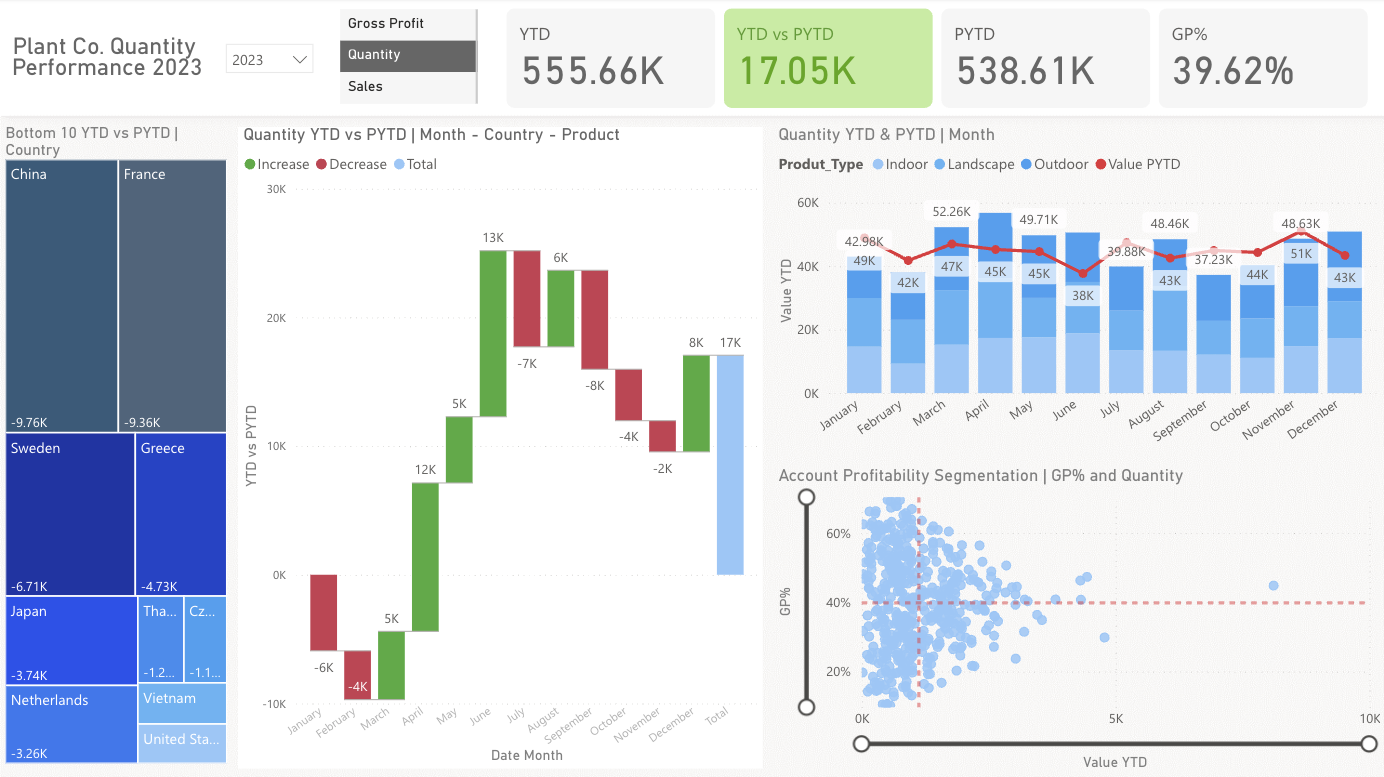

This screenshot's page, from the dashboard's own definition file:
{"tool":"powerbi","page":{"name":"Performance Report","canvas":[1280,720],"ordinal":0},"visuals":[{"type":"cardVisual","fields":{"Data":["_Measures.S_YTD","_Measures.YTD vs PYTD","_Measures.S_PYTD","_Measures.GP%"]},"box":[463,4.2,806.2,102.1],"z":0},{"type":"advancedSlicerVisual","fields":{"Values":["Slc_Values.Values"]},"box":[309.8,5.9,137.3,98],"z":1000},{"type":"slicer","fields":{"Values":["Dim_Date.Date.Variation.Date Hierarchy.Year"]},"box":[198.4,32.7,101.3,50.2],"z":2000},{"type":"treemap","title":"Bottom 10 YTD vs PYTD | Country","fields":{"Values":["_Measures.YTD vs PYTD"],"Group":["Dim_Account.country"]},"box":[0,118.7,214.6,594.4],"z":3000},{"type":"waterfallChart","fields":{"Y":["_Measures.YTD vs PYTD"],"Category":["Dim_Date.Date.Variation.Date Hierarchy.Month","Dim_Account.country","Dim_Product.Produt_Type","Dim_Product.Product_Name"]},"box":[220.3,119.6,485.2,593.5],"z":4000},{"type":"lineStackedColumnComboChart","fields":{"Y":["_Measures.S_YTD"],"Y2":["_Measures.S_PYTD"],"Category":["Dim_Date.Date.Variation.Date Hierarchy.Quarter","Dim_Date.Date.Variation.Date Hierarchy.Month"],"Series":["Dim_Product.Produt_Type"]},"box":[714.1,119.6,565.9,314.3],"z":5000},{"type":"scatterChart","fields":{"Y":["_Measures.GP%"],"X":["_Measures.S_YTD"],"Category":["Dim_Account.Account"]},"box":[714.1,433.9,565.9,285.8],"z":6000},{"type":"card","fields":{"Values":["_Measures._Report title"]},"box":[0,20.9,198.5,68.4],"z":7000}]}

Visuals, with their boxes in screenshot pixels (x1, y1, x2, y2), scaled from the page's 1280x720 canvas onto the 1384x777 screenshot:
cardVisual - _Measures.S_YTD x _Measures.YTD vs PYTD: box=[501, 5, 1372, 115]
advancedSlicerVisual - Slc_Values.Values: box=[335, 6, 483, 112]
slicer - Dim_Date.Date.Variation.Date Hierarchy.Year: box=[215, 35, 324, 89]
"Bottom 10 YTD vs PYTD | Country" treemap: box=[0, 128, 232, 770]
waterfallChart - _Measures.YTD vs PYTD x Dim_Date.Date.Variation.Date Hierarchy.Month: box=[238, 129, 763, 770]
lineStackedColumnComboChart - _Measures.S_YTD x _Measures.S_PYTD: box=[772, 129, 1383, 468]
scatterChart - _Measures.GP% x _Measures.S_YTD: box=[772, 468, 1383, 776]
card - _Measures._Report title: box=[0, 23, 215, 96]
